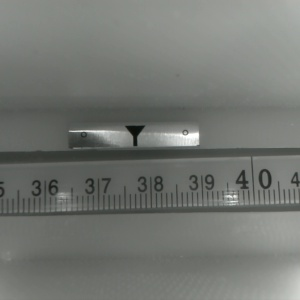0: (258, 169, 272, 189)
3: (30, 180, 41, 196), (188, 175, 198, 191), (84, 178, 94, 194), (136, 177, 146, 193)
4: (235, 169, 250, 189), (289, 171, 300, 187)
6: (47, 179, 58, 195)
7: (101, 178, 111, 193)
8: (153, 176, 163, 192)
9: (204, 175, 215, 190)
finger: (123, 126, 145, 146)
